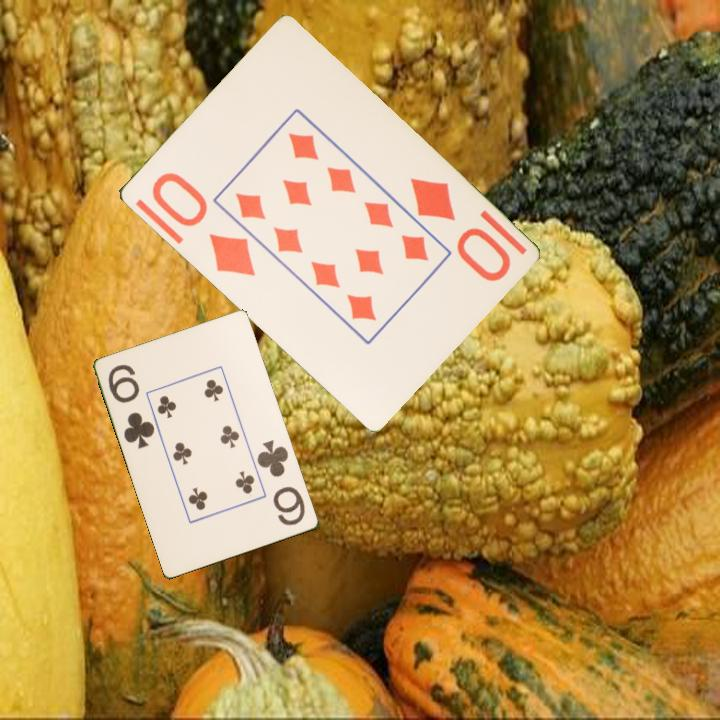10d: (147, 169, 258, 280), (406, 174, 514, 285)
6c: (254, 437, 309, 529), (105, 361, 158, 452)
